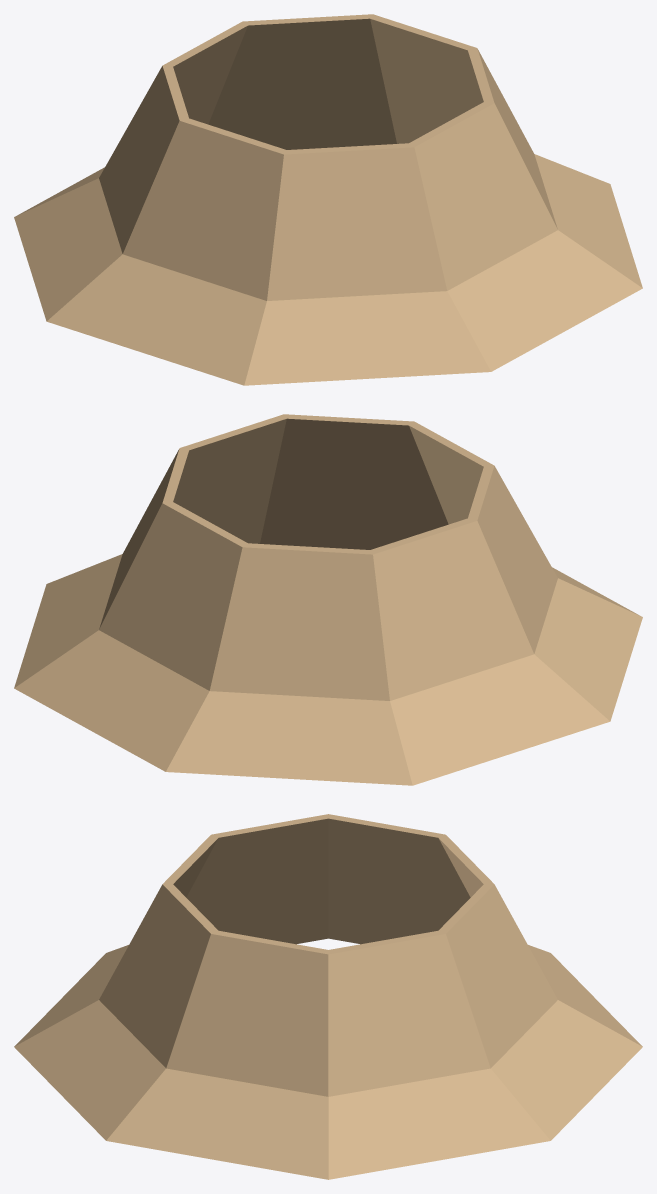
Rendered from Tribal_Plains_Windmill_Grain_Tent_Roof_Top_01.fbx.
3 views of the same model, one above another, from view 1: azimuth 30°, elevation 25°; view 2: azimuth 150°, elevation 25°; view 3: azimuth 270°, elevation 25° (orthographic). The views are drawn at different scales.
Visible parts, largest first — view 1: Tribal_Plains_Windmill_Grain_Tent_Roof_Top_01; view 2: Tribal_Plains_Windmill_Grain_Tent_Roof_Top_01; view 3: Tribal_Plains_Windmill_Grain_Tent_Roof_Top_01.
Part boxes in pixels (left/top/right/bottom): Tribal_Plains_Windmill_Grain_Tent_Roof_Top_01: left=14, top=14, right=642, bottom=385; Tribal_Plains_Windmill_Grain_Tent_Roof_Top_01: left=14, top=414, right=642, bottom=785; Tribal_Plains_Windmill_Grain_Tent_Roof_Top_01: left=14, top=814, right=642, bottom=1179.
Size of the model in its own units: 3.87 by 1.11 by 3.87.
